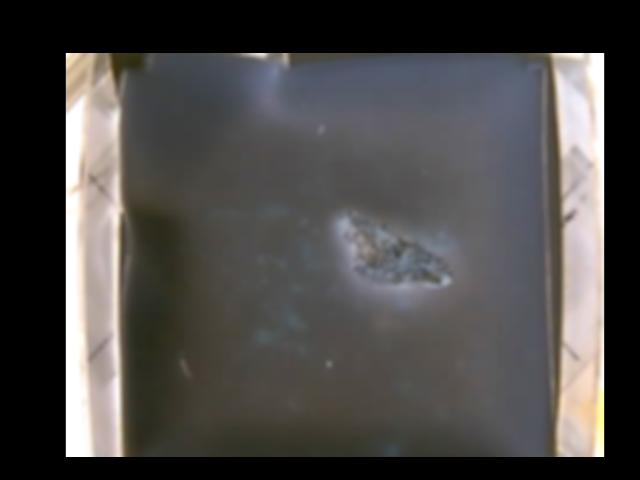Brisk: (339, 209, 457, 292)
